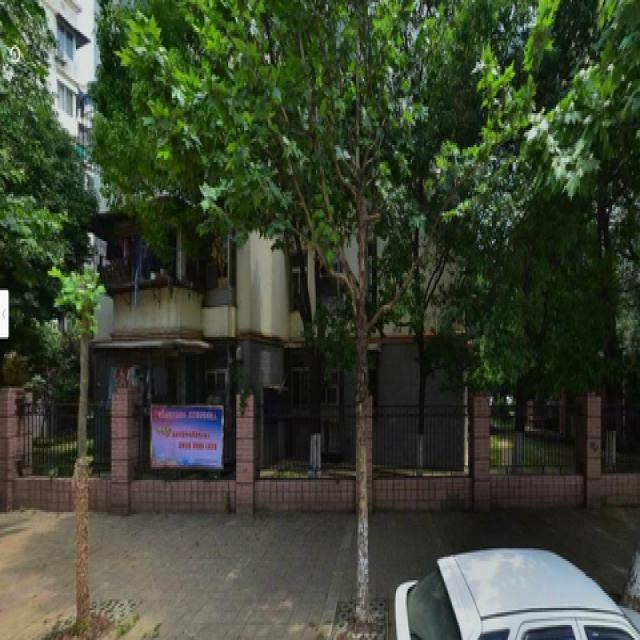meta: (233, 17, 484, 578)
